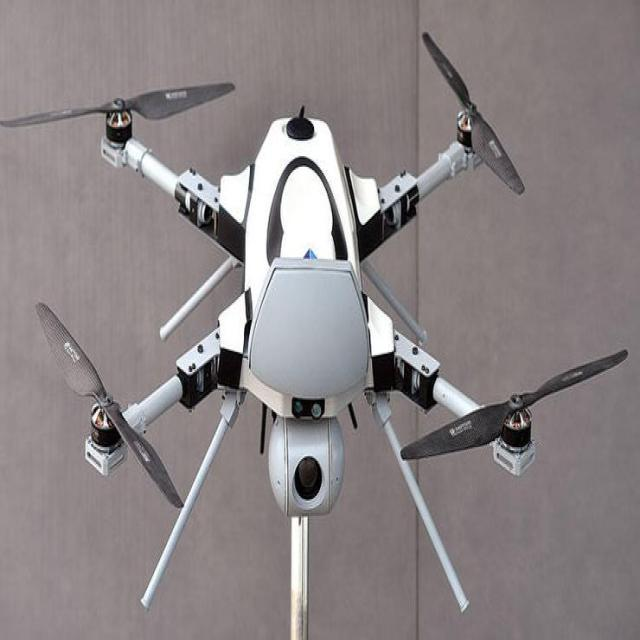drones: (19, 56, 628, 616)
